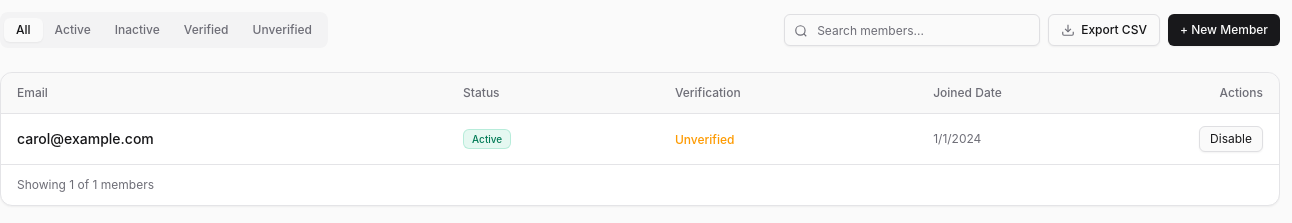
it: MembersView › toggles a member active state from the row button
Expected: the text "carol@example.com" is shown, [1,113,447,164]
What coordinates should you click on to do the following:
click the button "Disable"
I would click on:
 (1231, 138)
Its box is [1199,126,1263,152].
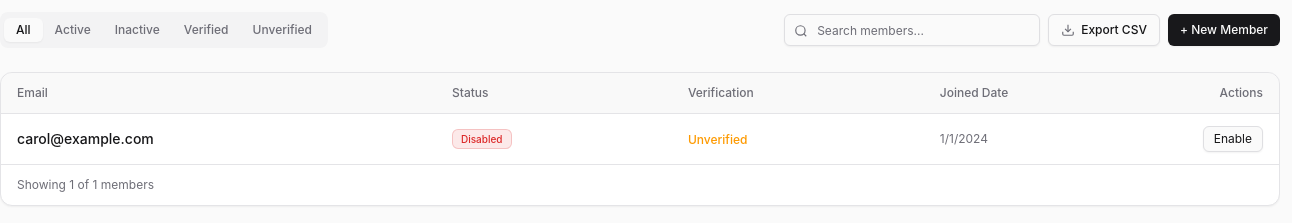
Expected: the button "Enable" is shown, [1203,126,1263,152]
